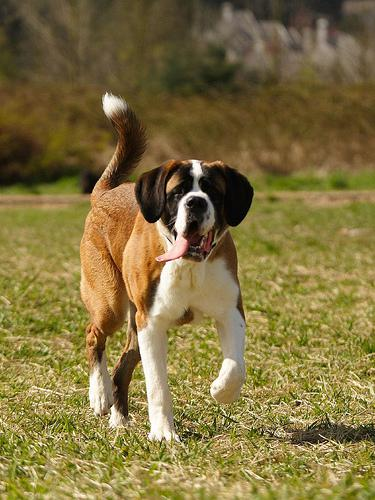dog-saint_bernard: (134, 159, 253, 260)
